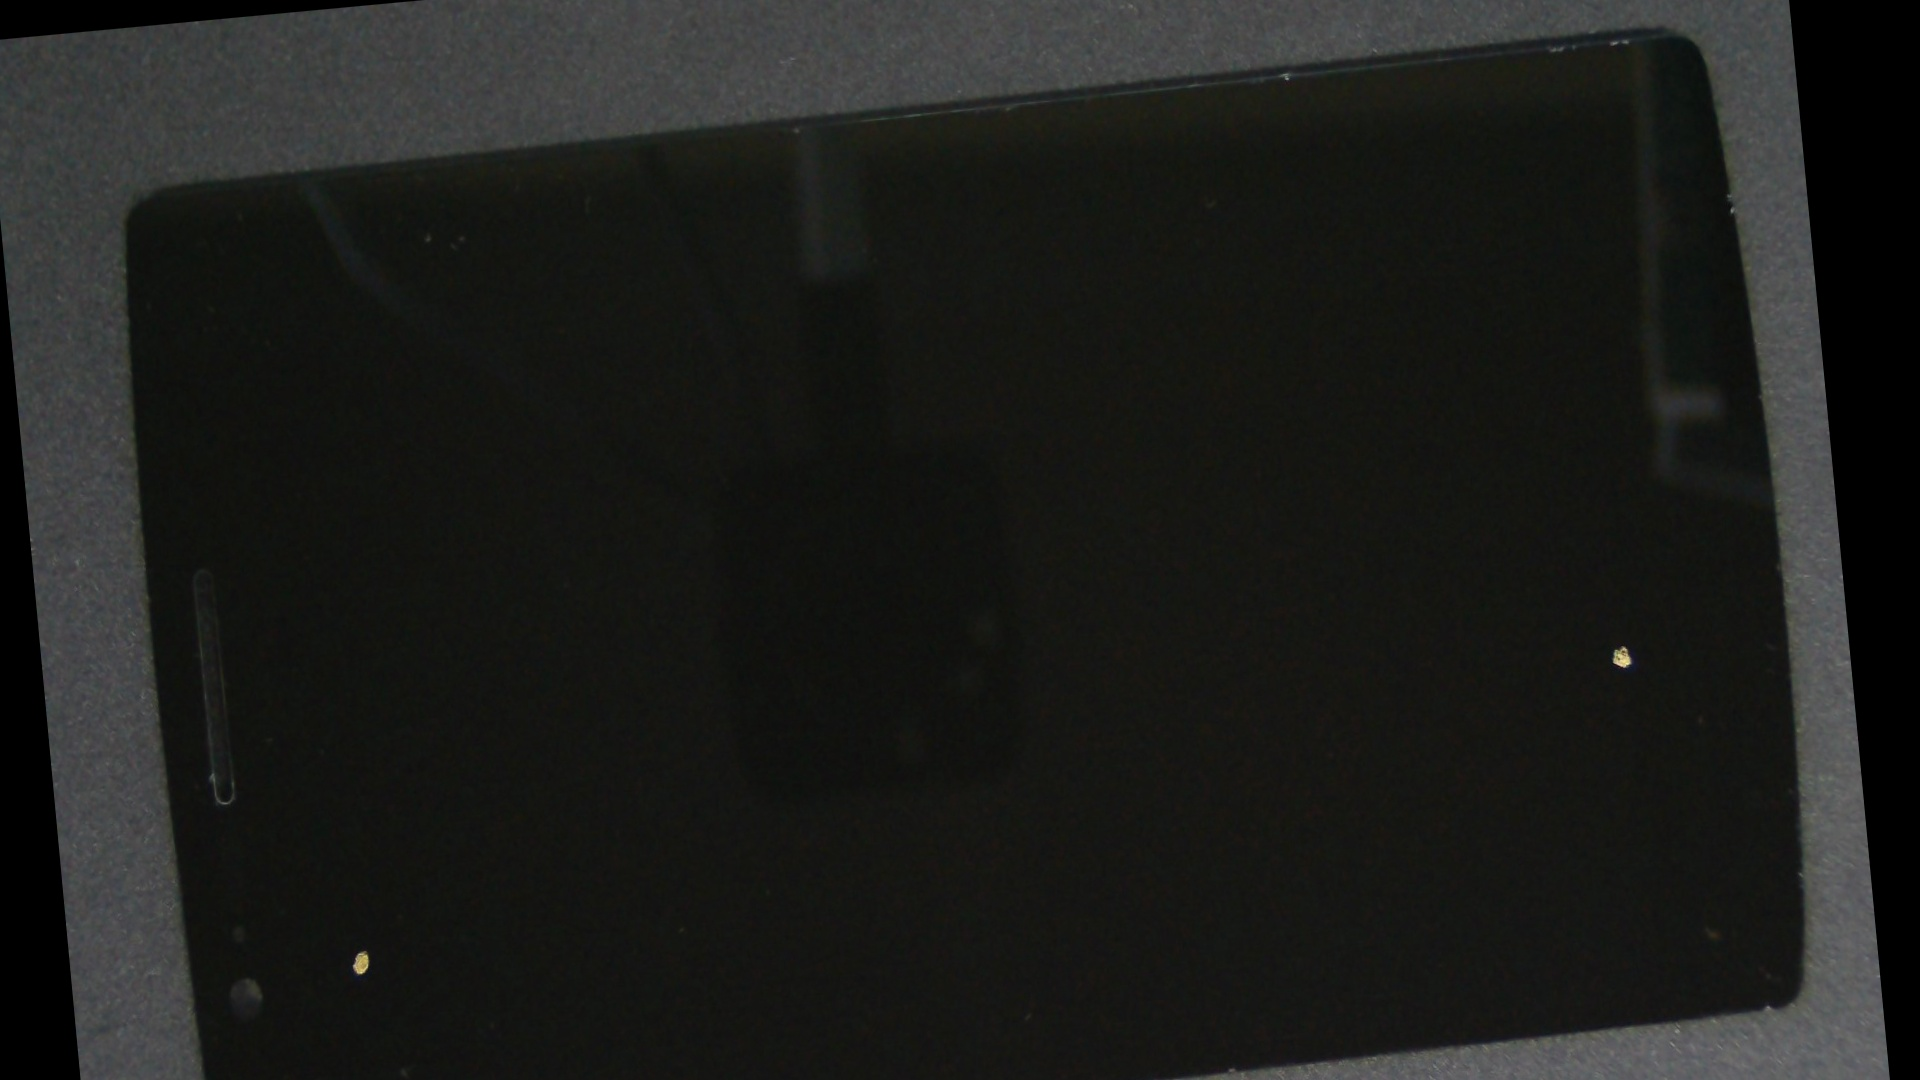oil: (803, 247, 1882, 1080), (175, 467, 541, 1080)
